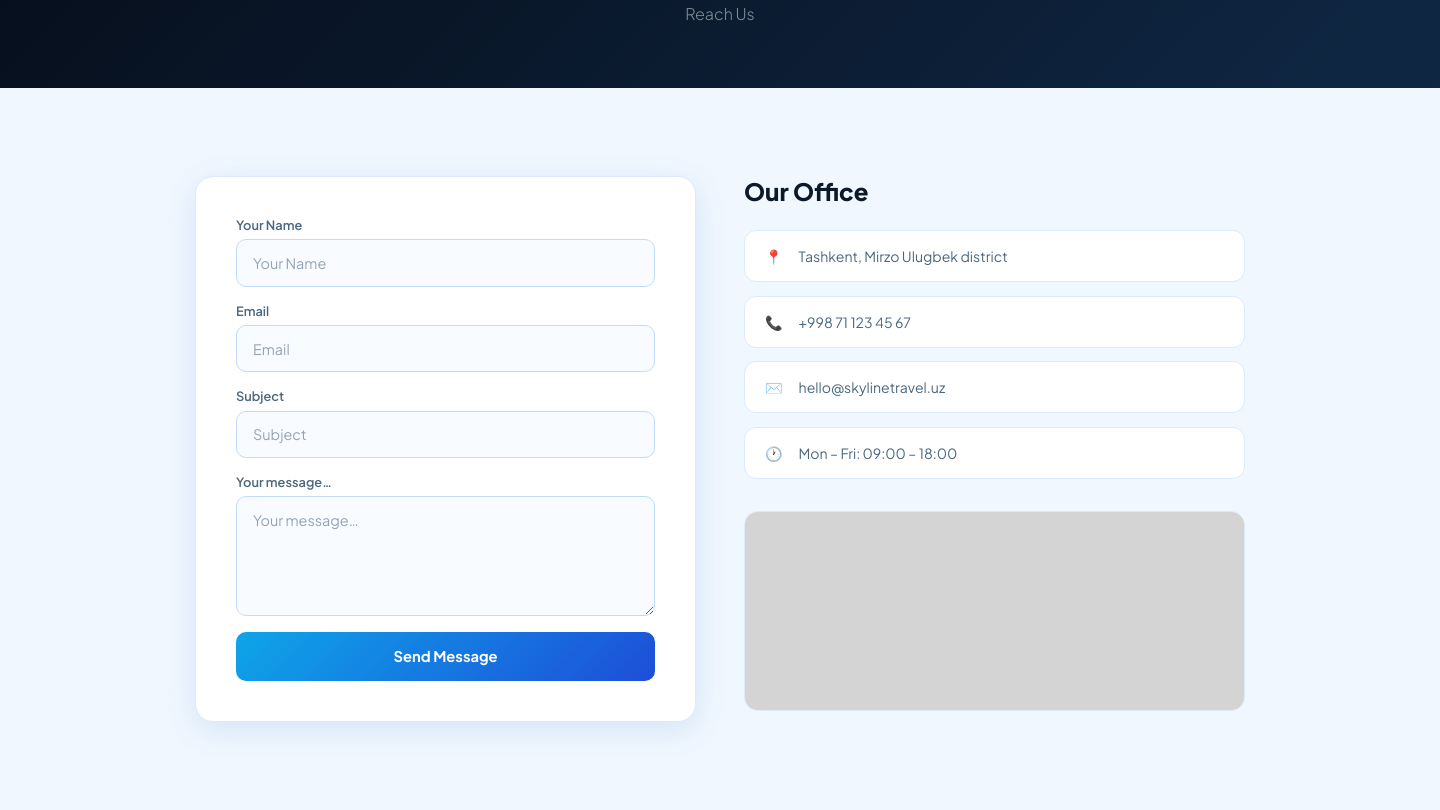
Test case: Contact form validation › clears the field error as the user types
(page scrolled)
Click the button "Send Message": (446, 656) [236,632,655,680]
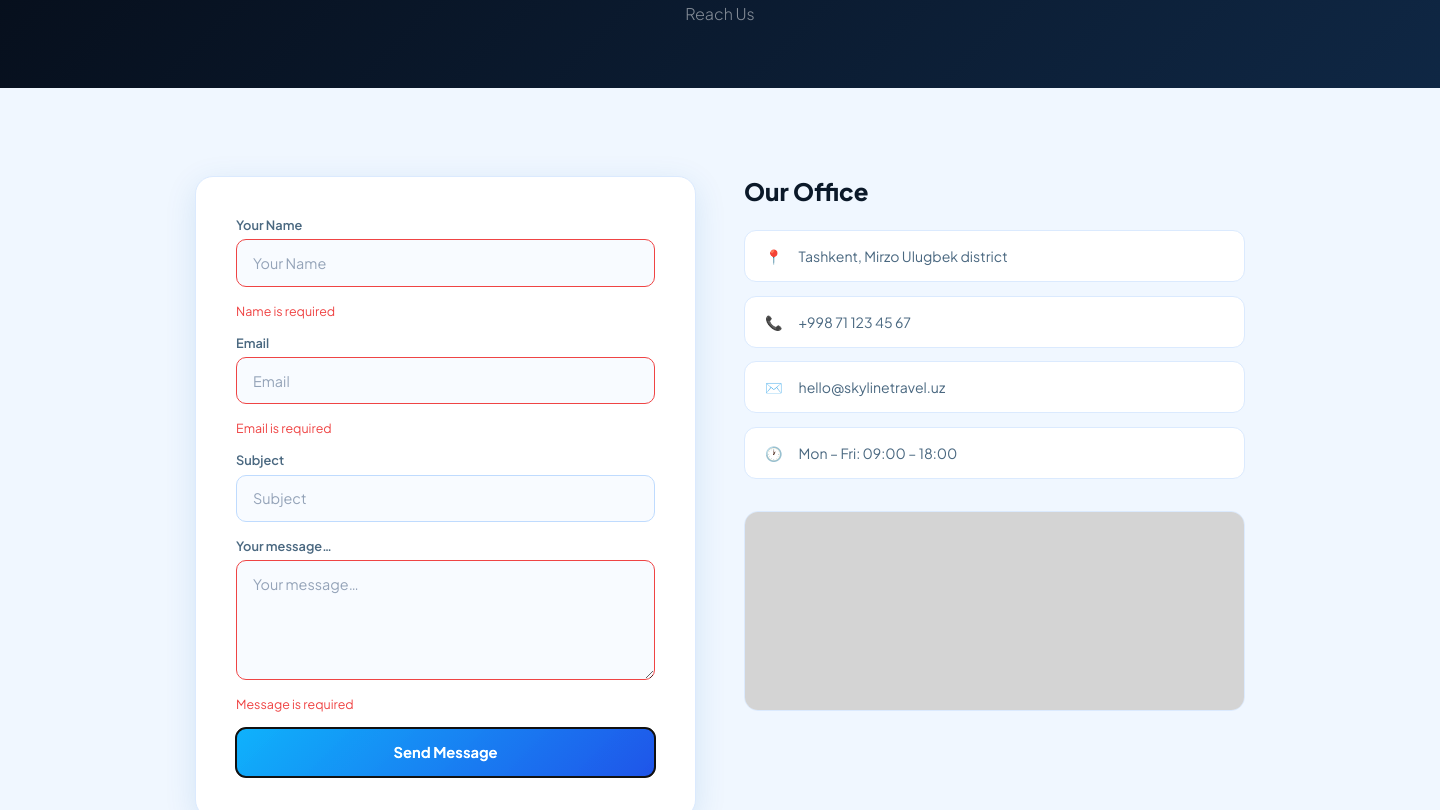
Expected: the text "Name is required" is shown, [236,303,335,319]
In the field labelled "Your Name": (446, 263) [236,239,655,287], type "B"
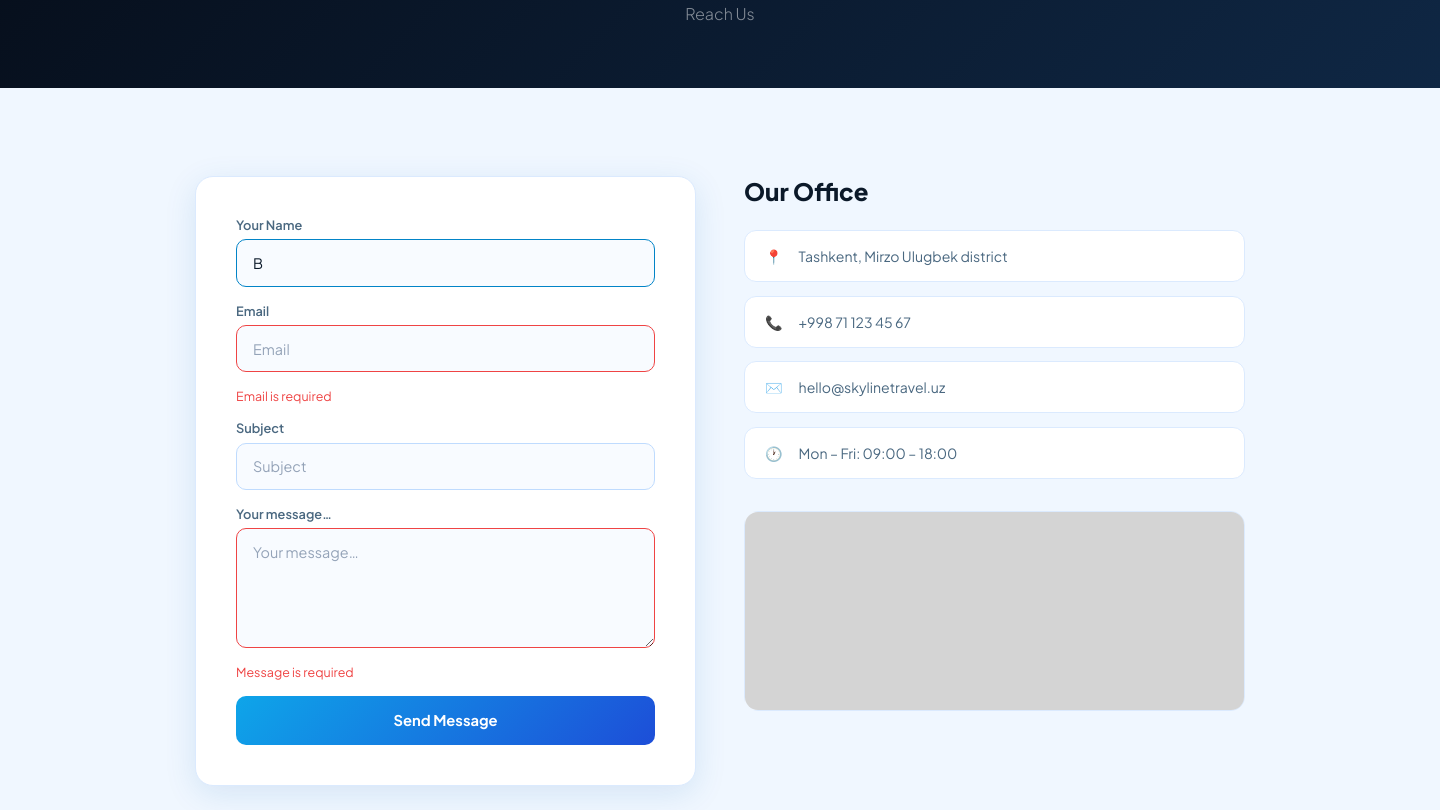
Expected: the text "Name is required" is gone
